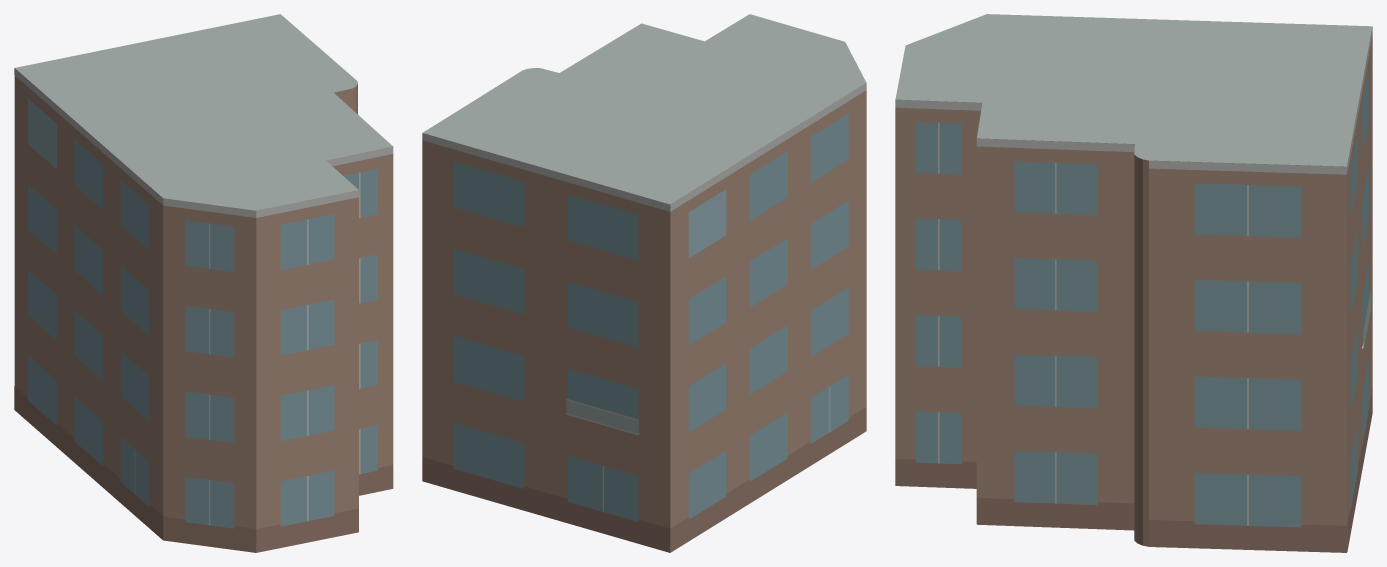
Rendered from survey-upis-32871530.glb.
3 views of the same model, side by side, from view 1: azimuth 30°, elevation 25°; view 2: azimuth 150°, elevation 25°; view 3: azimuth 270°, elevation 25° (orthographic). The views are drawn at different scales.
Visible parts, largest first — view 1: survey-upis-32871530.tmp; view 2: survey-upis-32871530.tmp; view 3: survey-upis-32871530.tmp.
Part boxes in pixels (x1,y1,x2,y2): survey-upis-32871530.tmp: (14, 14, 393, 552); survey-upis-32871530.tmp: (422, 14, 866, 552); survey-upis-32871530.tmp: (895, 14, 1372, 552).
Bounding box in the file's own units: 9.82 × 11.58 × 12.97.
